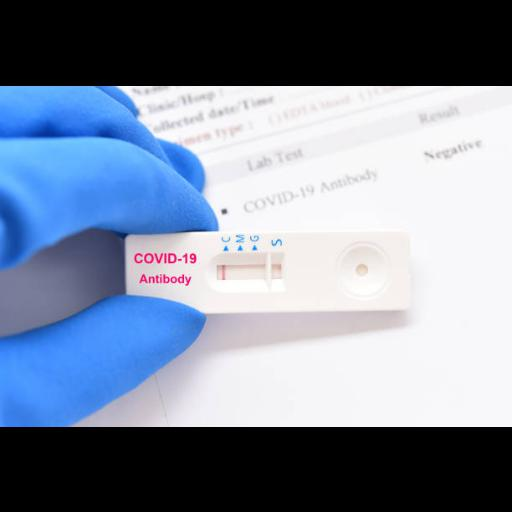Neg: (124, 232, 408, 310)
